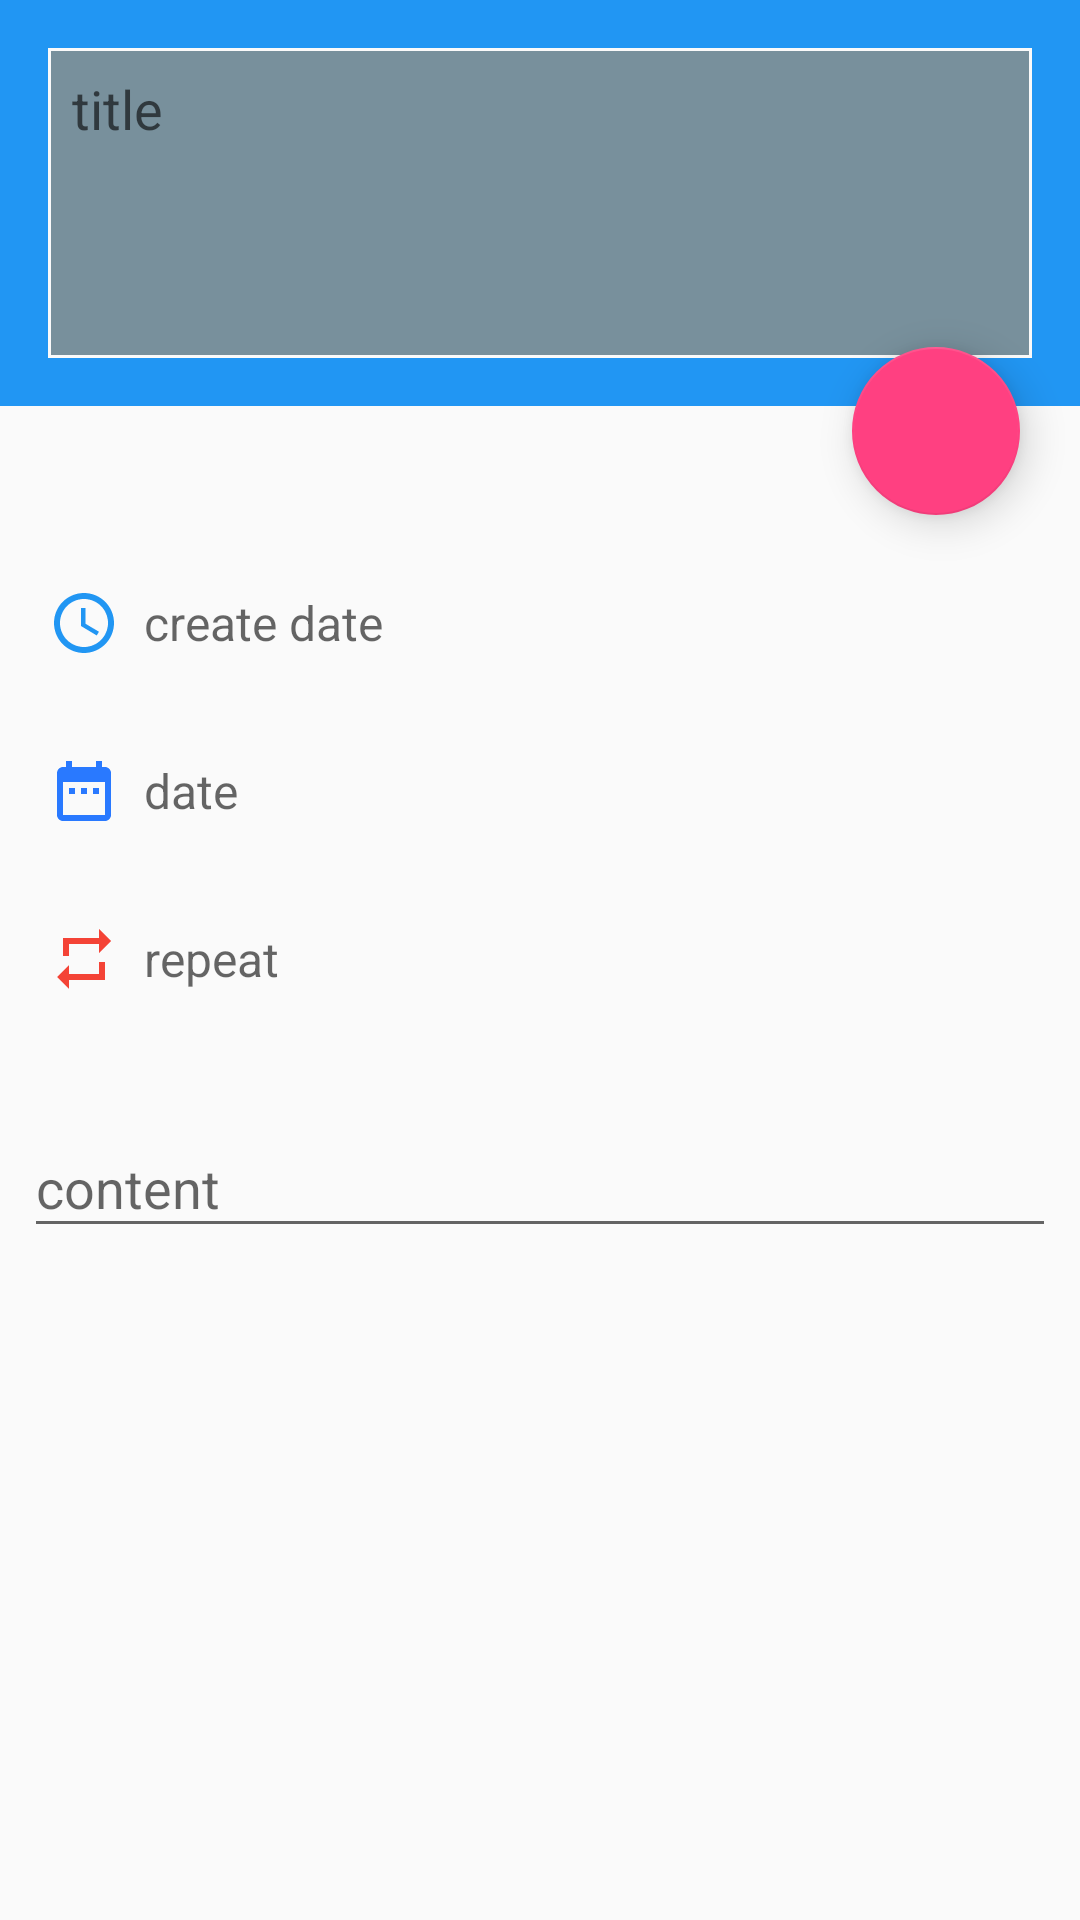

Where icons sit on this 1080px x 1920px app screen, as [left=x1, top=y1, right=x2, bottom=y2]:
time: [left=54, top=593, right=114, bottom=653]
